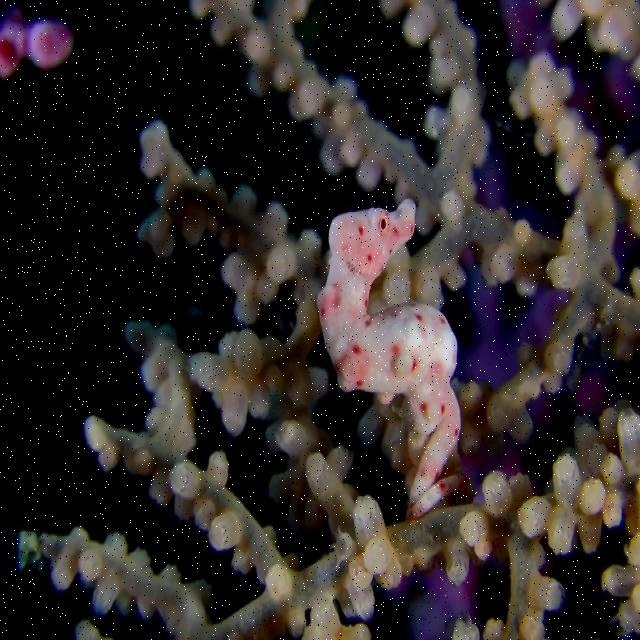reefs: (18, 1, 639, 639), (1, 22, 71, 78)
